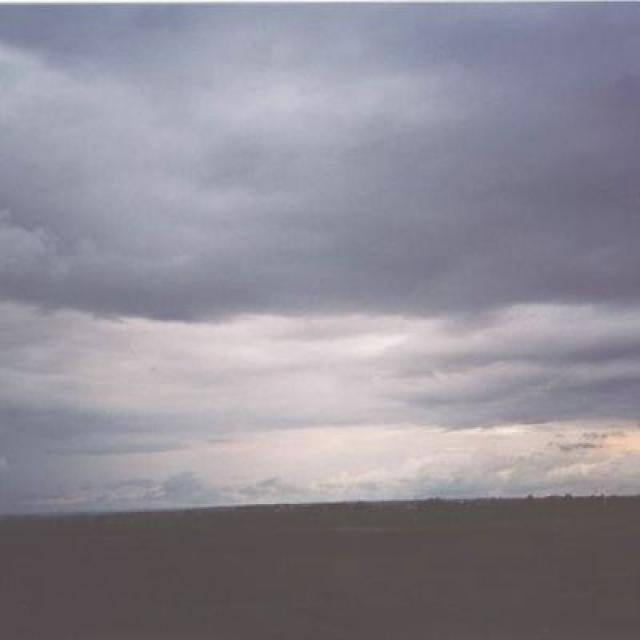St: (2, 41, 640, 492)
